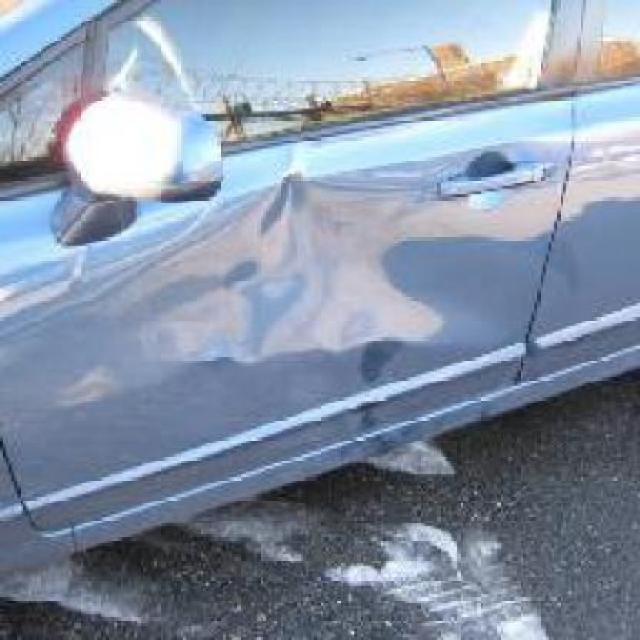dent-or-scratch: (110, 146, 548, 385)
